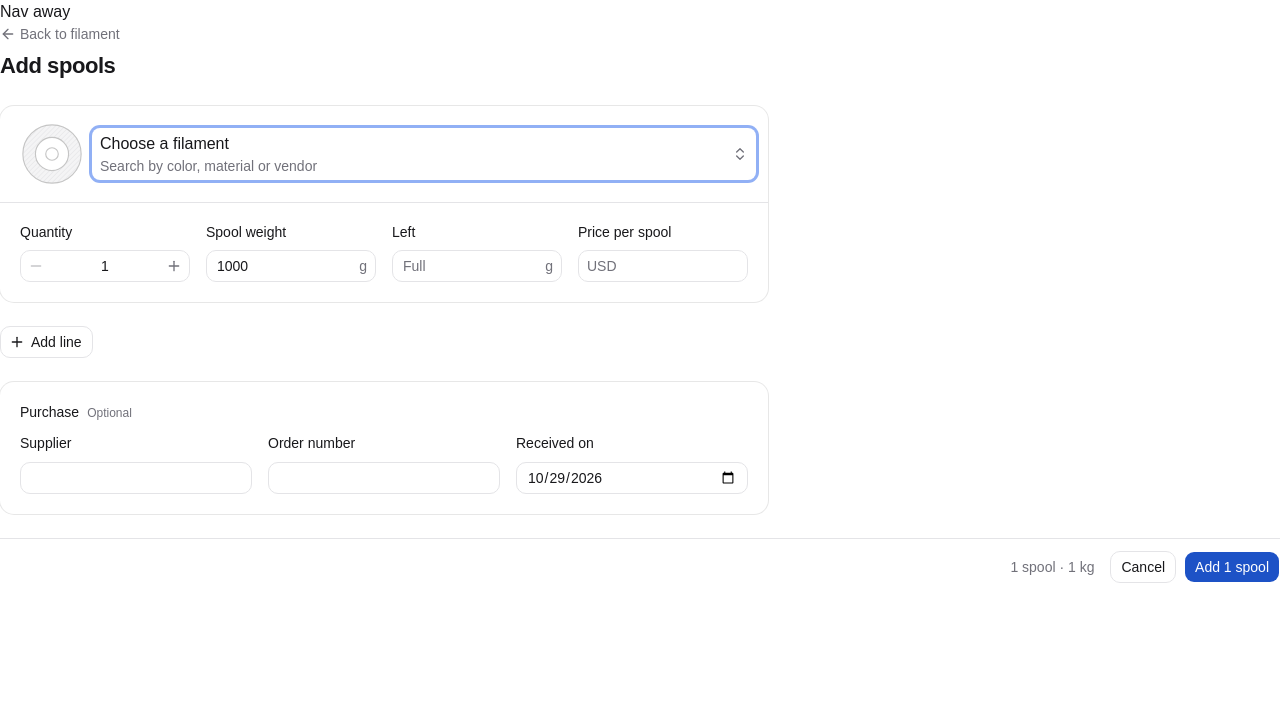
SpoolFormPage › refuses a quantity of 2.5 and sends nothing
This screenshot has width=1280, height=720.
Step 1. Click the dropdown labelled "Choose a filament Search by color, material or vendor" → point(164, 144), box [92,128,756,180]
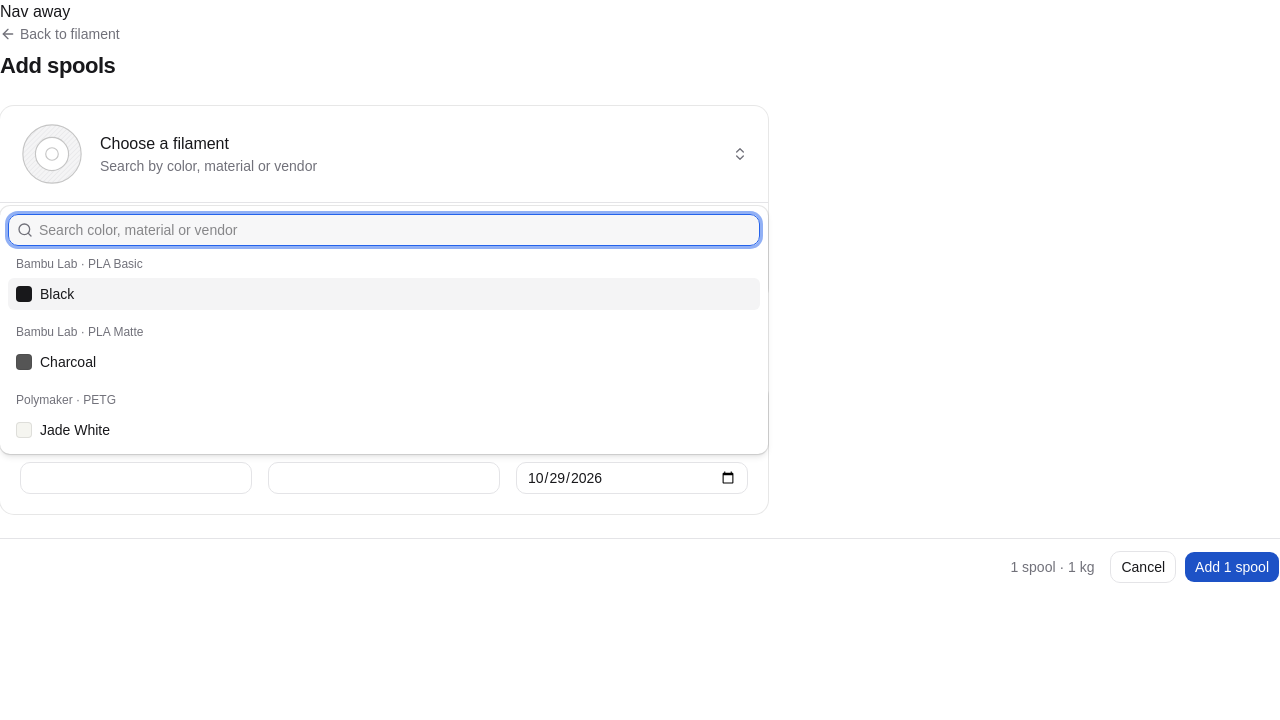
Step 2. Click the option "Black" → point(57, 294), box [8,278,760,310]
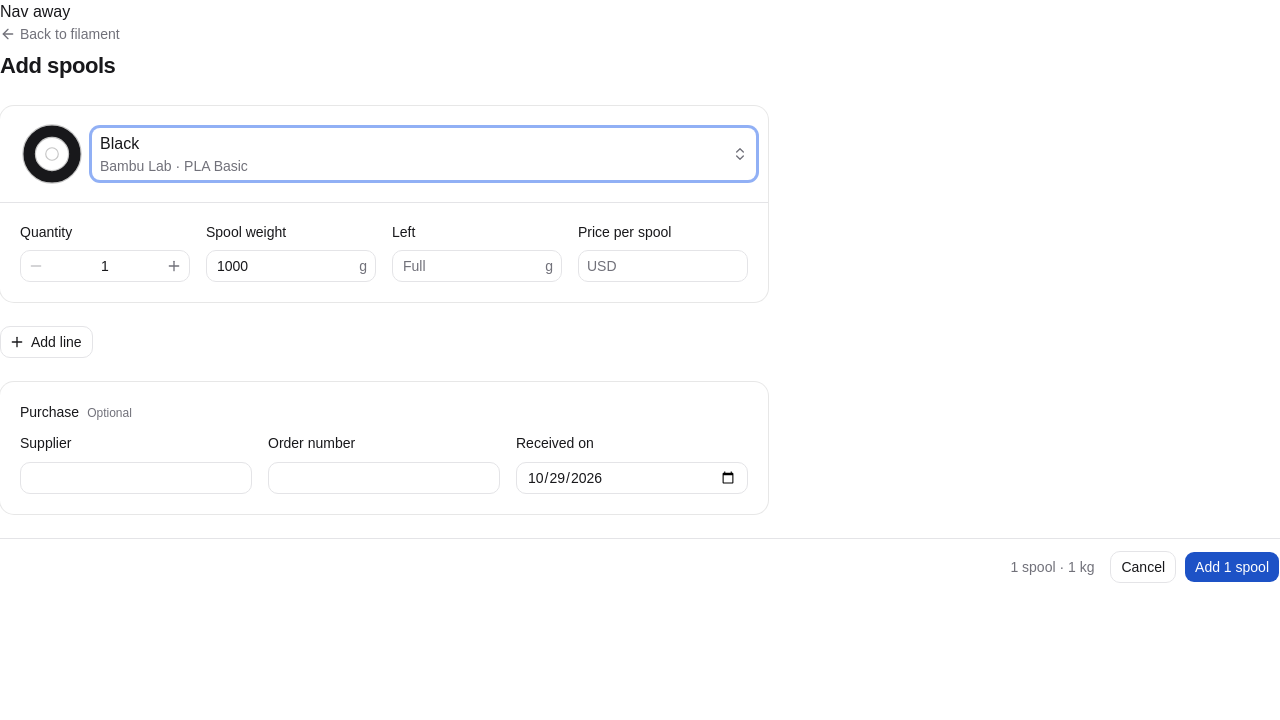
Step 3. Replace the text in the number field labelled "Quantity" with "2.5" → point(105, 266), box [48,250,162,282]
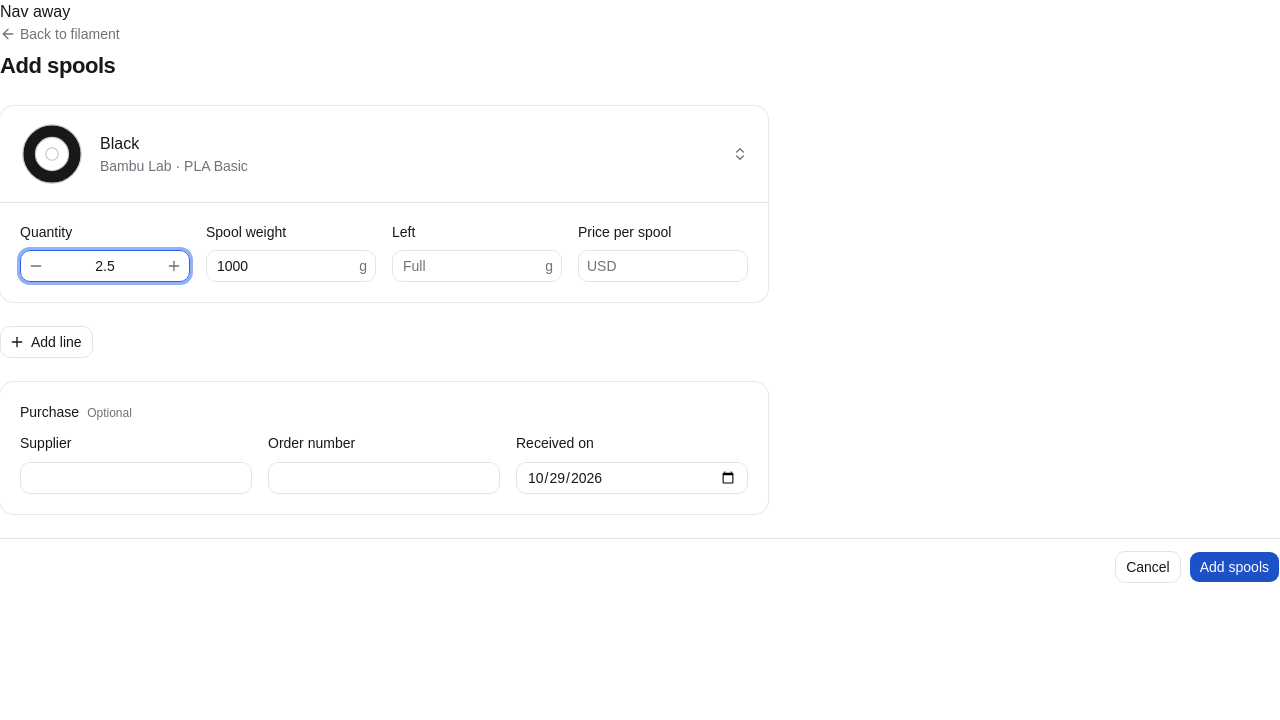
Step 4. Click the button "Add spools" → point(1234, 566), box [1189,550,1279,582]
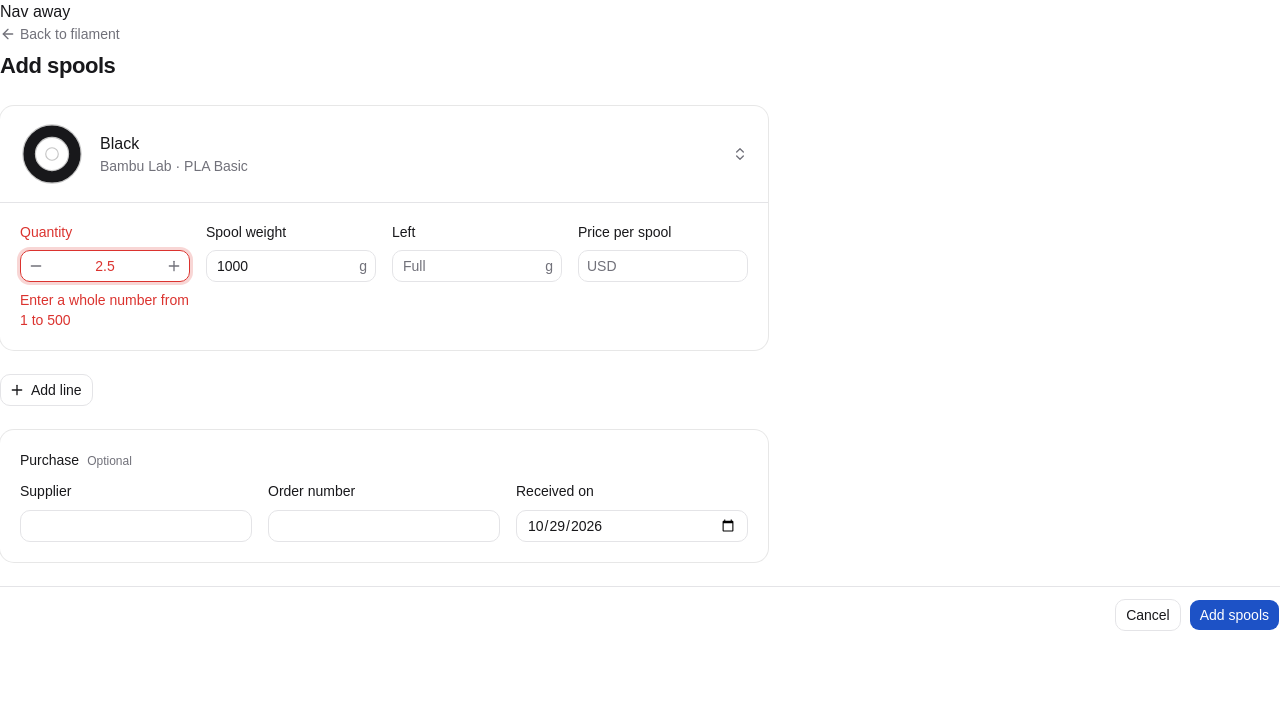
Now the text "Enter a whole number from 1 to 500" is shown, box [20,290,190,330]
